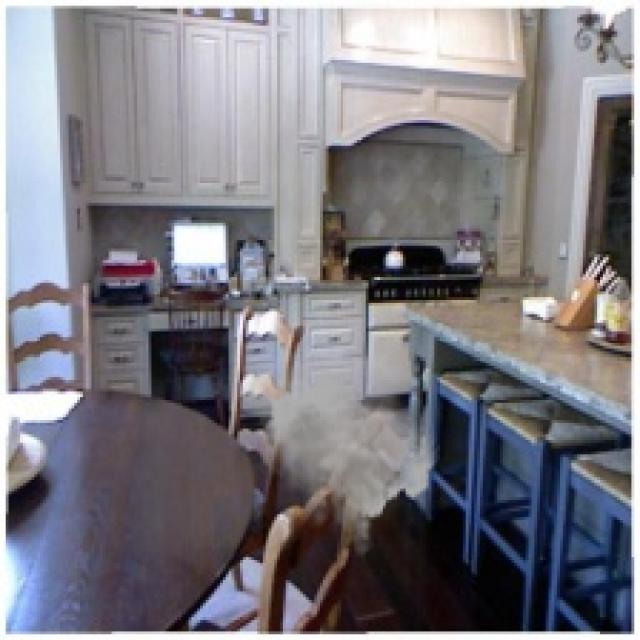smoke: (234, 343, 440, 560)
